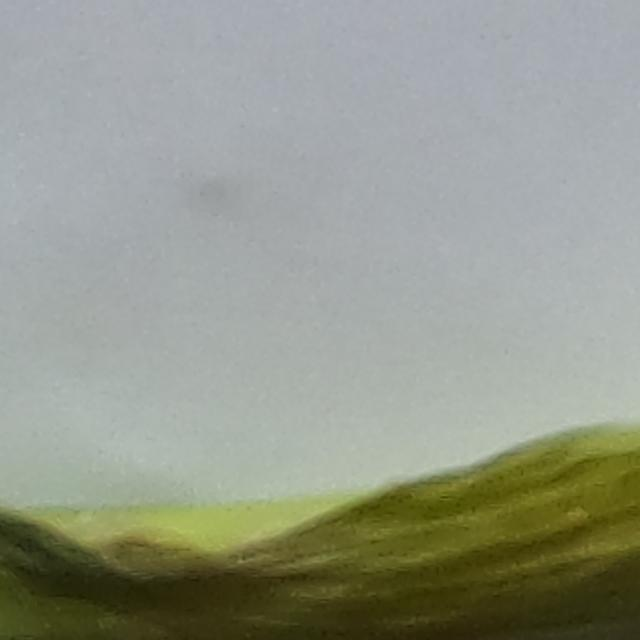green_onion: (0, 427, 640, 640)
